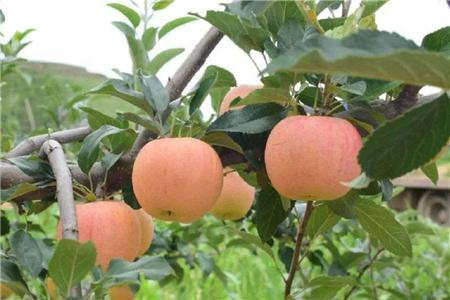apple: (263, 113, 364, 201), (131, 136, 223, 222), (59, 200, 143, 271)
